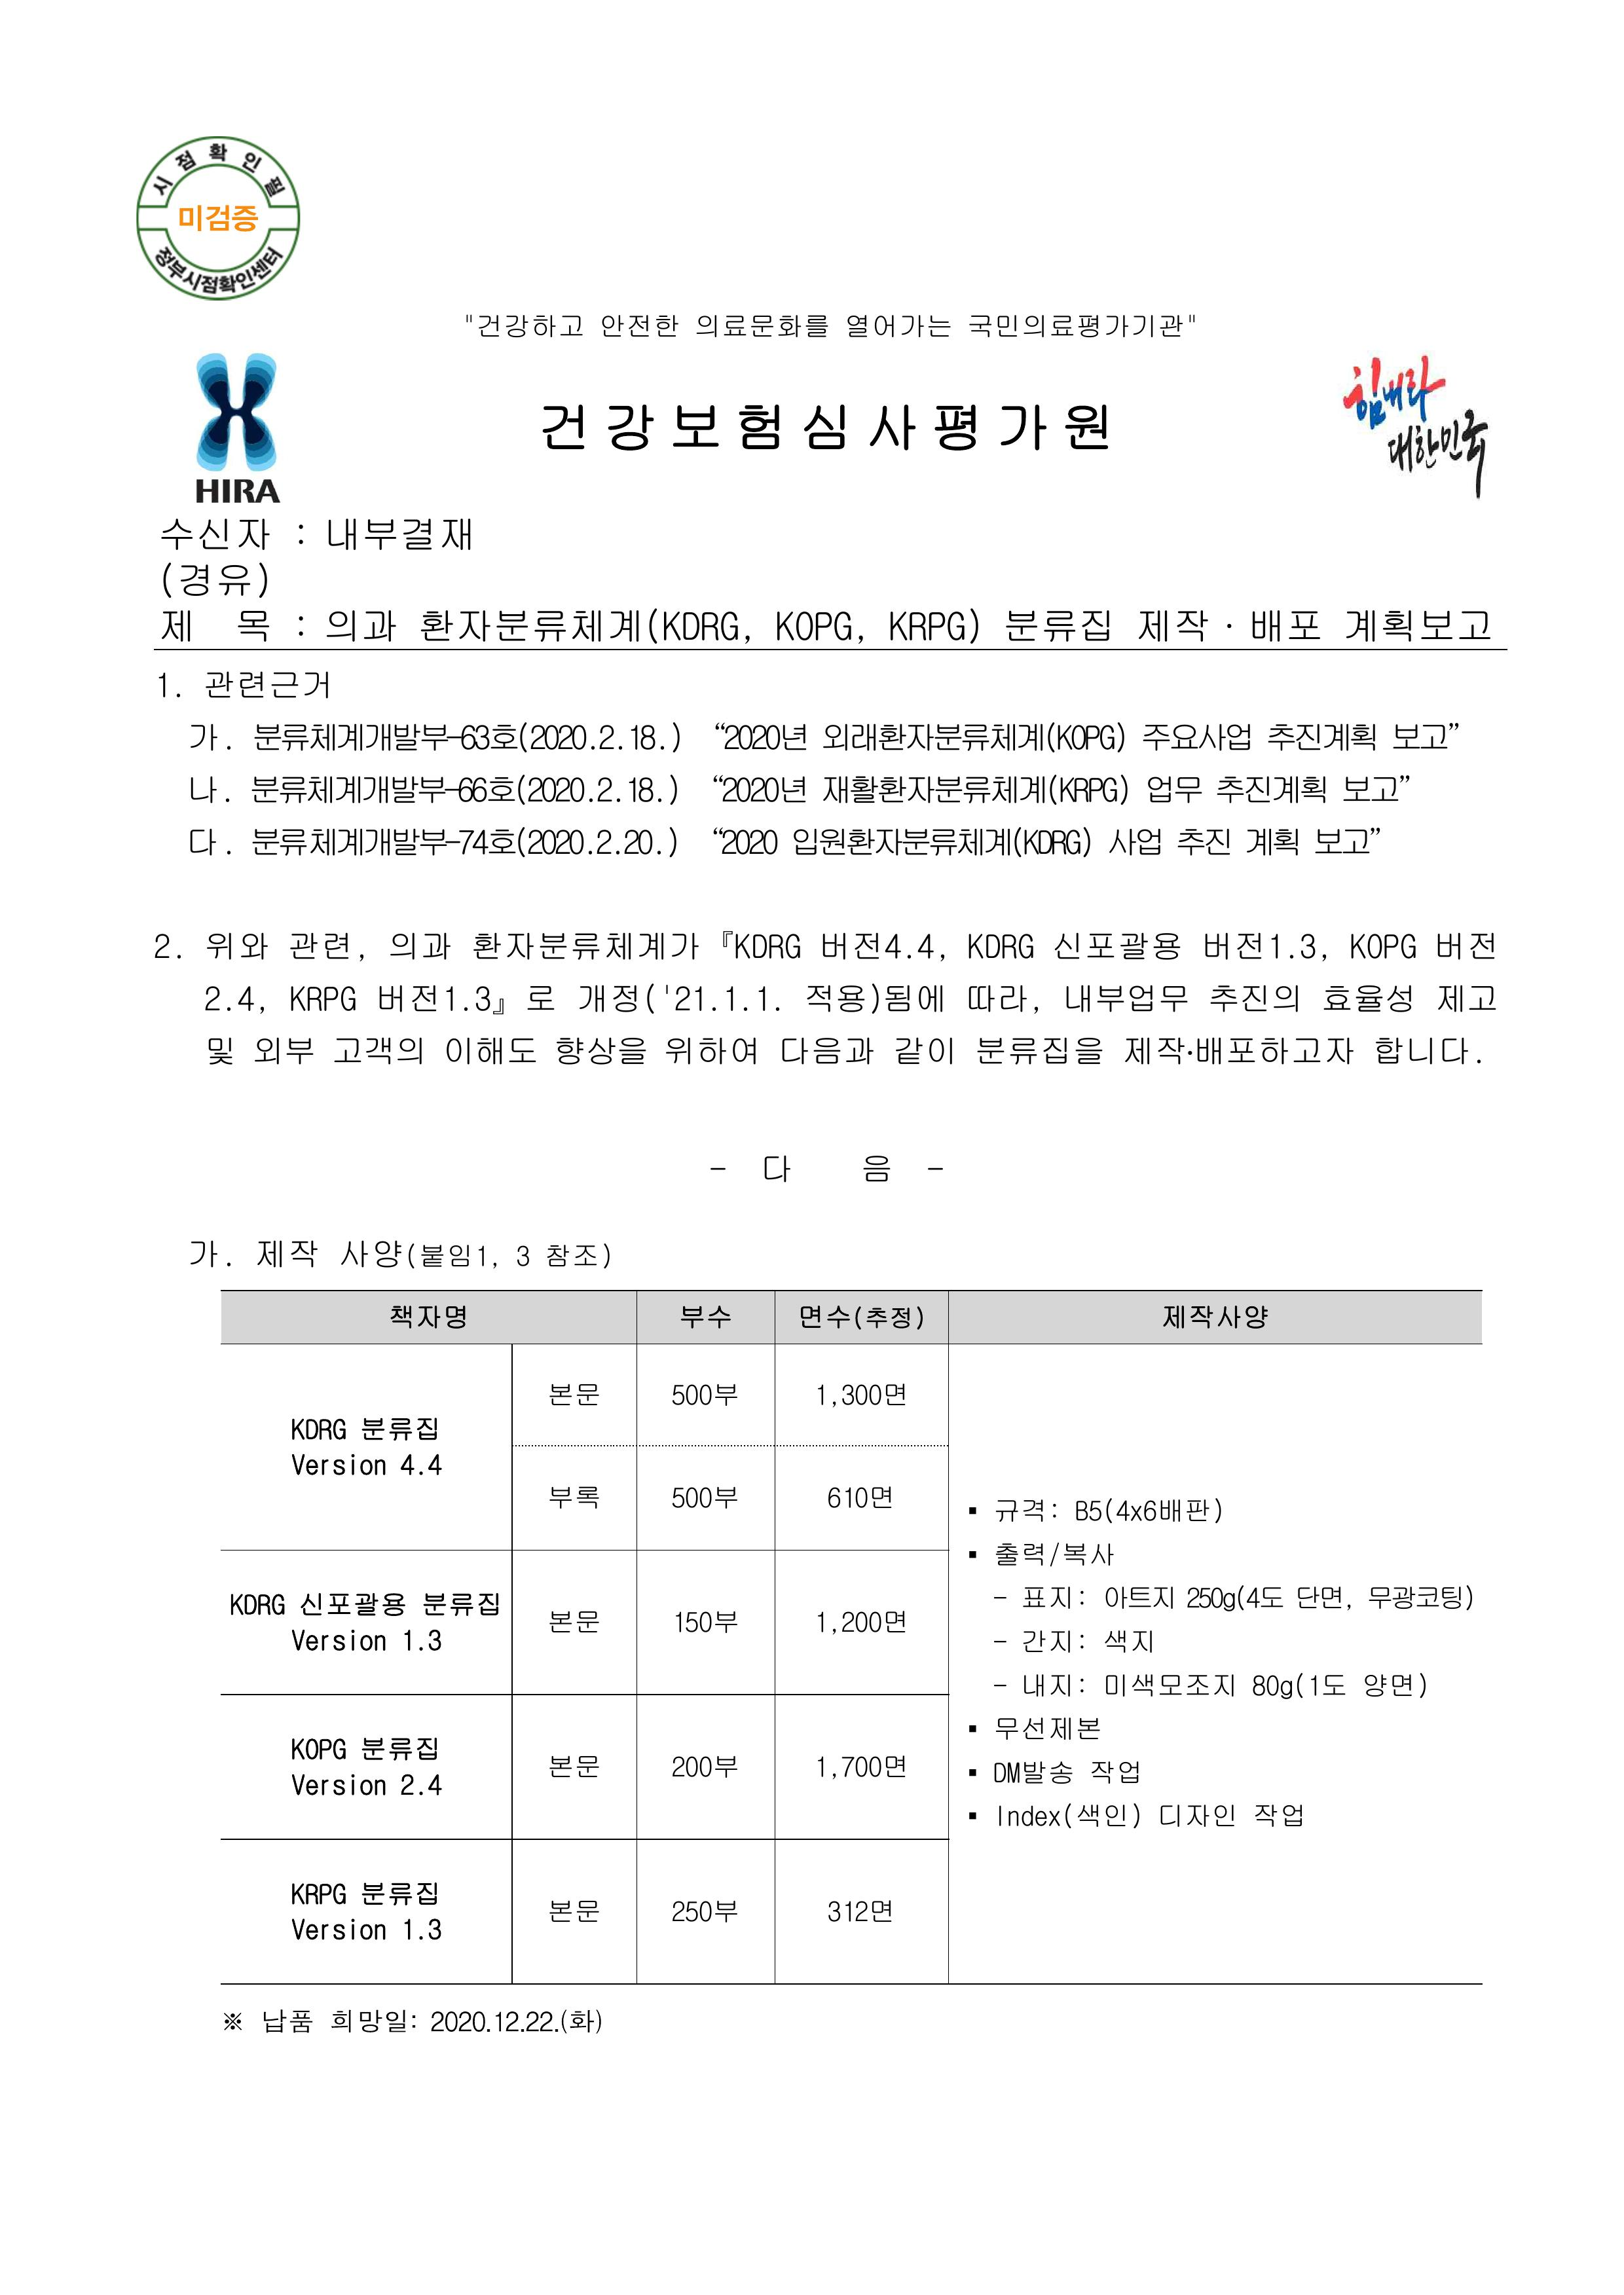t: (541, 401, 1107, 459), (251, 824, 680, 861), (251, 717, 627, 756), (821, 717, 1125, 756), (789, 824, 1093, 861), (817, 771, 1130, 807), (417, 606, 642, 645), (469, 928, 703, 965), (1118, 1033, 1355, 1068), (1380, 411, 1492, 483), (1338, 355, 1448, 427), (965, 308, 1186, 341), (246, 771, 448, 807), (445, 771, 624, 807), (1341, 606, 1496, 645), (337, 1237, 506, 1272), (322, 513, 473, 552), (803, 979, 946, 1017), (156, 559, 276, 603), (373, 977, 510, 1014), (1197, 928, 1330, 965), (1000, 606, 1116, 648), (642, 979, 780, 1014), (1072, 1495, 1225, 1527), (204, 666, 334, 703), (1051, 928, 1179, 965), (817, 928, 944, 965), (972, 1033, 1104, 1068), (691, 308, 828, 341), (796, 1299, 924, 1334), (1097, 1668, 1237, 1699), (997, 1803, 1144, 1833), (1062, 979, 1186, 1014), (990, 1538, 1116, 1571), (1265, 717, 1378, 754), (1141, 717, 1251, 754), (1213, 771, 1327, 807), (162, 517, 272, 552), (645, 606, 745, 645), (1369, 1033, 1478, 1068), (487, 2005, 606, 2037), (886, 606, 982, 645), (473, 308, 584, 341), (842, 311, 953, 344), (1158, 1300, 1269, 1334), (659, 1033, 761, 1068), (1362, 1582, 1473, 1613), (297, 1589, 408, 1620), (1246, 1671, 1348, 1705), (710, 771, 807, 807), (441, 1033, 538, 1068), (552, 1033, 649, 1068), (779, 1033, 875, 1068), (1206, 979, 1301, 1014), (990, 1713, 1100, 1743), (1183, 1582, 1287, 1613), (1320, 979, 1413, 1014), (772, 606, 861, 641), (714, 720, 807, 754), (1244, 606, 1323, 645), (176, 200, 258, 237), (1134, 606, 1220, 641), (334, 1033, 427, 1065), (327, 2005, 418, 2037), (193, 473, 279, 506), (717, 928, 803, 961), (290, 1452, 390, 1480), (290, 1915, 390, 1944), (387, 1300, 469, 1334), (990, 1757, 1076, 1789), (599, 308, 680, 341), (1387, 717, 1459, 754), (286, 928, 359, 965), (322, 606, 397, 641), (573, 979, 642, 1017), (418, 1589, 501, 1620), (286, 979, 359, 1014), (204, 928, 272, 965), (1345, 928, 1420, 961), (359, 1413, 438, 1444), (359, 1733, 438, 1764), (359, 1875, 438, 1907), (965, 979, 1035, 1014), (1155, 1799, 1237, 1829), (666, 1480, 738, 1513), (965, 928, 1035, 961), (824, 1480, 893, 1513), (893, 1033, 958, 1068), (1338, 771, 1410, 803), (1308, 824, 1380, 856), (835, 1378, 907, 1409), (990, 1495, 1062, 1527), (1018, 1582, 1090, 1613), (666, 1750, 738, 1782), (1104, 824, 1165, 861), (251, 1033, 315, 1068), (251, 1237, 322, 1269), (1241, 824, 1301, 861), (387, 928, 452, 961), (1431, 928, 1496, 961), (200, 982, 269, 1014), (838, 1750, 907, 1782), (1144, 771, 1206, 807), (666, 1379, 738, 1409), (1018, 1627, 1090, 1657), (1100, 1582, 1176, 1610), (1431, 982, 1496, 1014), (286, 1413, 352, 1444), (286, 1733, 352, 1764), (624, 720, 685, 754), (1018, 1671, 1090, 1699), (1359, 1671, 1431, 1699), (666, 1896, 738, 1924), (821, 1896, 893, 1924), (717, 824, 780, 856), (427, 2005, 490, 2037), (1172, 824, 1234, 856), (1097, 1624, 1155, 1657), (545, 1244, 613, 1272), (838, 1606, 907, 1634), (286, 1879, 352, 1907), (1251, 1799, 1306, 1833), (227, 1589, 290, 1617), (258, 2005, 315, 2037), (290, 1627, 348, 1657), (1290, 1582, 1345, 1613), (548, 1750, 603, 1782), (1086, 1757, 1141, 1789), (545, 1893, 599, 1924), (548, 1379, 599, 1413), (290, 1771, 348, 1799), (673, 1610, 738, 1634), (678, 1300, 731, 1330), (156, 606, 197, 641), (186, 771, 227, 807), (186, 720, 228, 754), (620, 771, 659, 807), (861, 1151, 900, 1186), (186, 1237, 228, 1269), (397, 1915, 445, 1944), (186, 824, 227, 856), (548, 1610, 599, 1634), (397, 1452, 445, 1478), (237, 606, 276, 638), (204, 1033, 237, 1068), (552, 1485, 599, 1509), (348, 1631, 390, 1657), (401, 1627, 445, 1652), (348, 1775, 390, 1799), (524, 982, 555, 1014), (151, 928, 179, 961), (508, 1241, 538, 1269), (156, 673, 179, 703), (401, 1775, 427, 1799), (221, 2012, 244, 2033), (427, 1775, 445, 1796), (814, 1383, 828, 1406)
